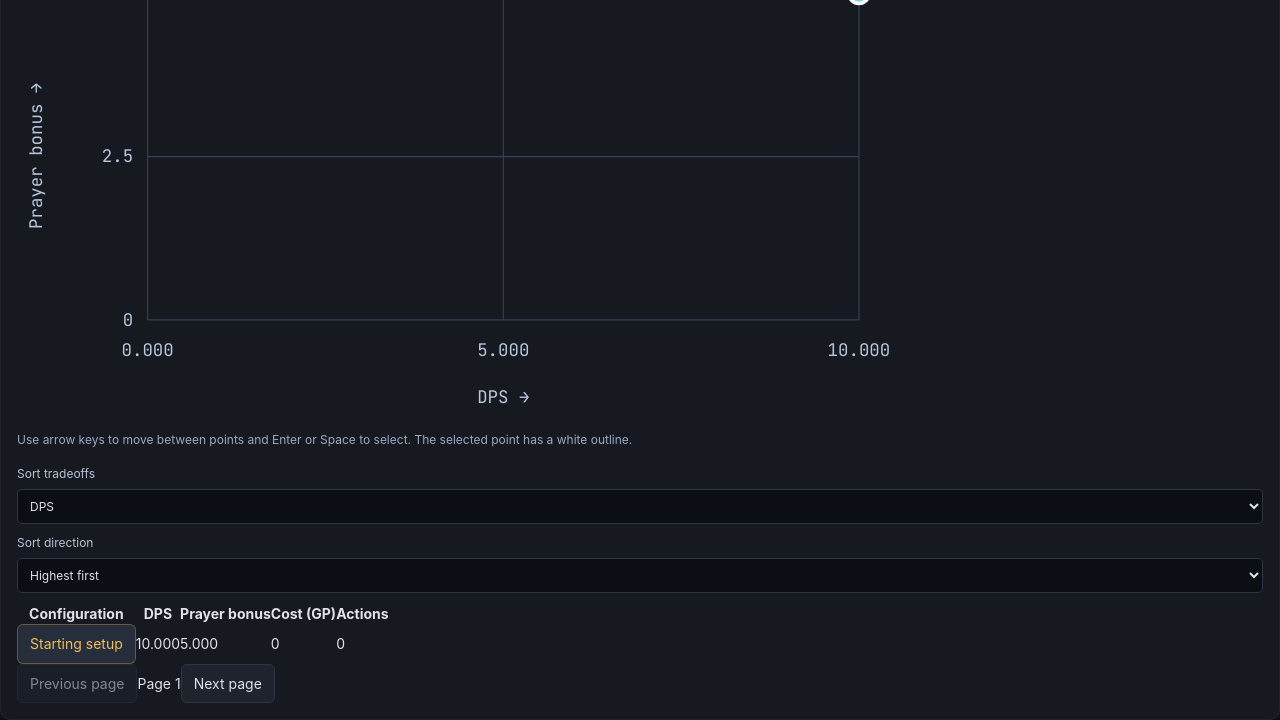
Test: keeps a selected chart configuration visible while browsing and sorting other table results
Later steps or results of the test are not shown.
(page scrolled)
Click the button "Next page": (228, 684) [181,664,275,703]
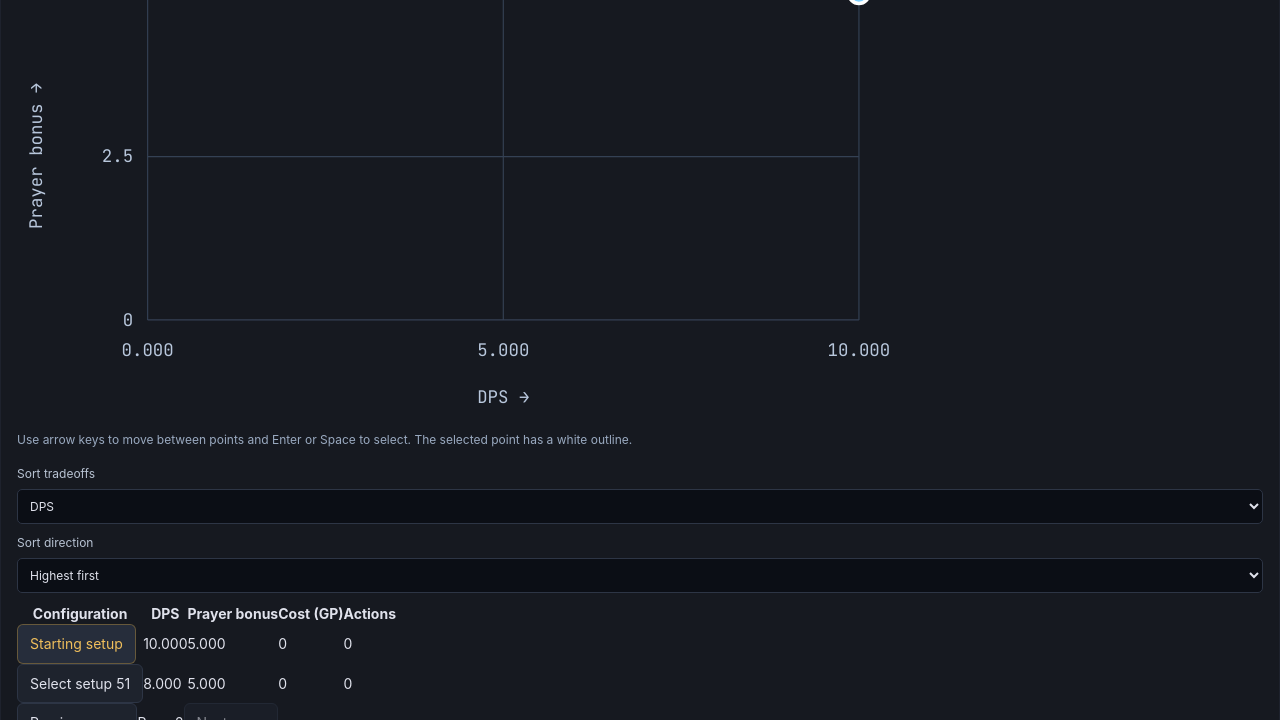
Check: the cell "10.000" is shown, box [143,624,188,664]
Check: the button "Select setup 51" is shown, box [17,664,143,703]
